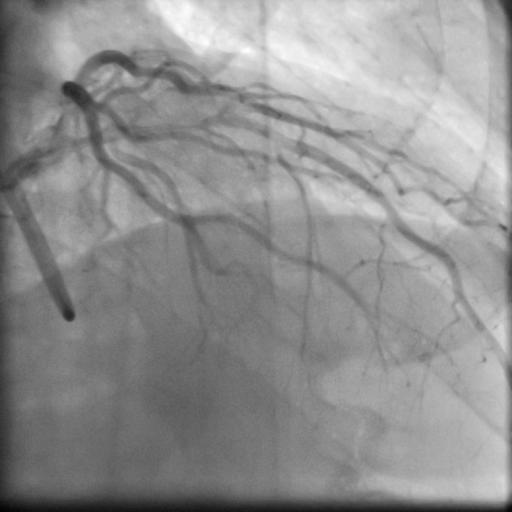Stenosis: (132, 120, 195, 140)
